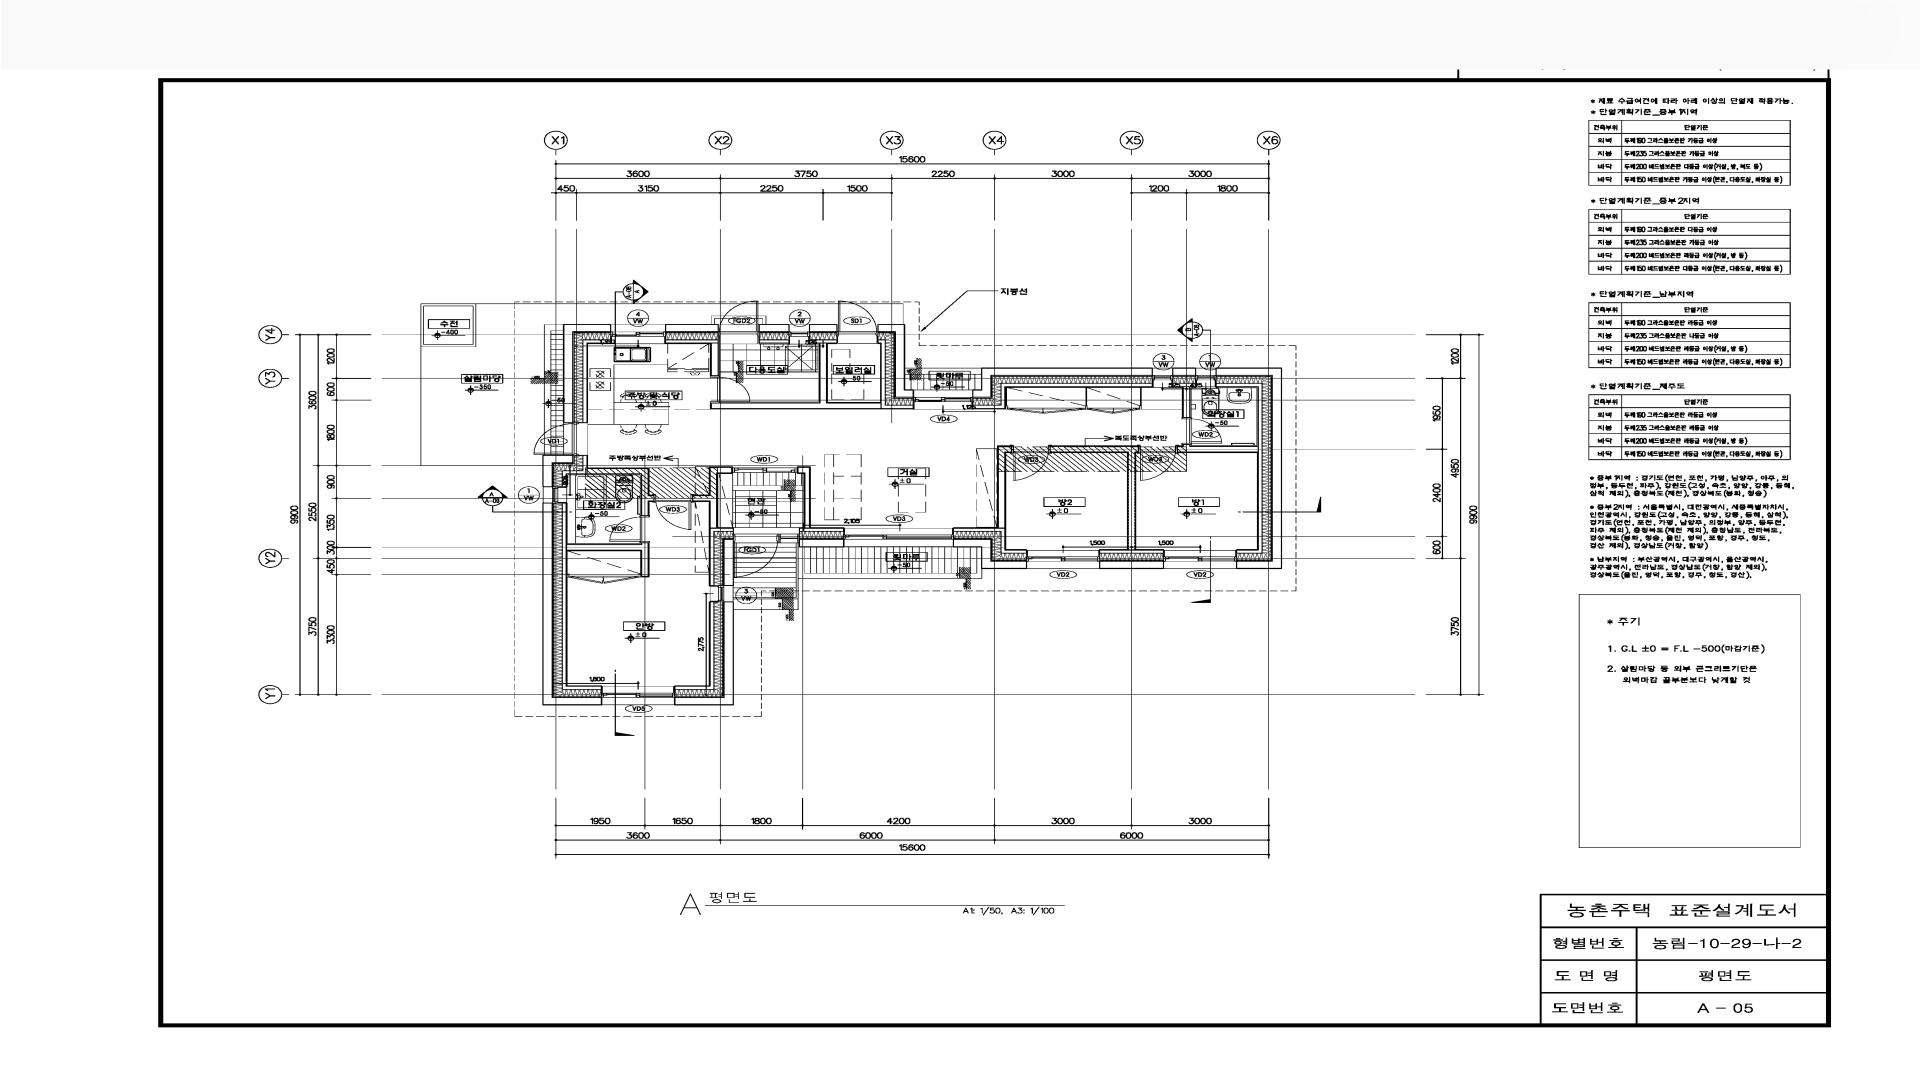background: (0, 0, 1920, 1080)
door: (733, 534, 779, 578), (837, 301, 878, 344), (719, 301, 758, 344), (534, 423, 588, 455), (1011, 444, 1051, 481), (653, 495, 694, 530), (1139, 444, 1178, 481), (709, 376, 750, 404), (609, 516, 650, 543), (1182, 418, 1222, 444)
wall: (1216, 368, 1282, 570), (542, 502, 601, 705), (709, 343, 881, 409), (1051, 446, 1138, 550), (1216, 384, 1262, 553), (563, 502, 601, 690), (674, 601, 733, 705), (972, 368, 1153, 397), (563, 324, 611, 423), (972, 384, 1153, 409), (674, 601, 713, 690), (588, 468, 654, 516), (567, 543, 649, 578), (878, 324, 914, 397), (878, 340, 914, 409), (694, 467, 733, 527), (583, 340, 611, 423), (953, 539, 1027, 570), (953, 527, 1027, 553), (709, 527, 733, 585), (997, 446, 1011, 527), (542, 455, 572, 487), (796, 467, 811, 527), (563, 455, 588, 487), (1178, 444, 1258, 454), (1098, 562, 1163, 570), (724, 539, 733, 585), (665, 324, 719, 331), (799, 539, 844, 547), (709, 343, 719, 376), (1182, 388, 1191, 418), (1100, 549, 1163, 553), (758, 324, 790, 331), (808, 324, 837, 331), (799, 527, 844, 531), (1172, 368, 1196, 375), (665, 340, 719, 343), (1172, 384, 1196, 388), (760, 340, 790, 343), (808, 340, 837, 343)
window: (844, 527, 953, 547), (1163, 550, 1236, 568), (601, 687, 674, 705), (1027, 550, 1098, 568), (914, 390, 972, 409), (611, 324, 665, 344), (733, 465, 796, 473), (1153, 368, 1172, 388), (1196, 368, 1216, 388), (709, 585, 733, 601), (543, 487, 567, 502), (790, 324, 808, 344), (779, 534, 799, 543)
